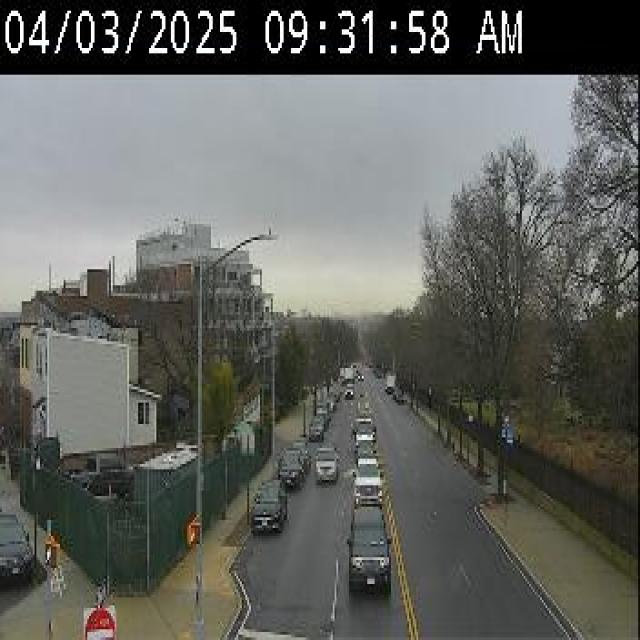open parking: (275, 404, 341, 506)
